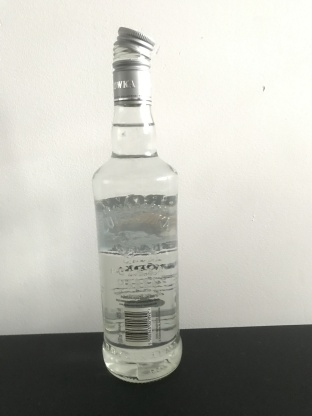nakretka: (110, 24, 156, 107)
